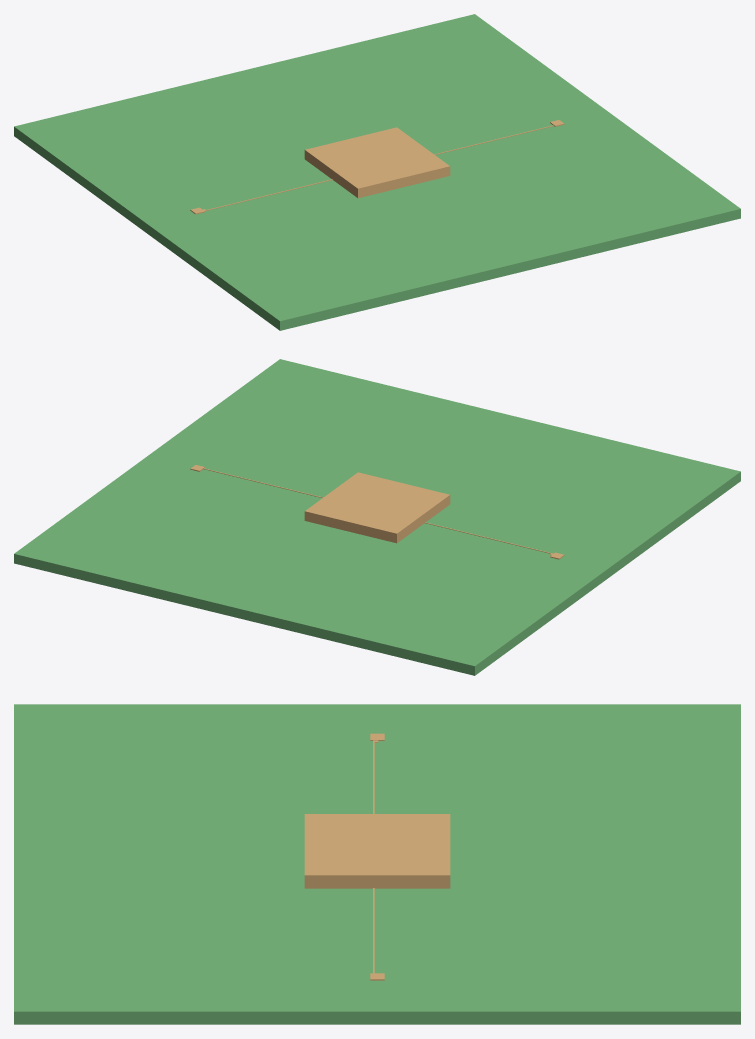
The model's file is board.glb.
The picture shows the model from 3 angles, top to bottom: view 1: azimuth 30°, elevation 25°; view 2: azimuth 150°, elevation 25°; view 3: azimuth 270°, elevation 25°; orthographic projection. The views are drawn at different scales.
Visible parts, largest first — view 1: Substrate_Layer_0_Z0, Block; view 2: Substrate_Layer_0_Z0, Block; view 3: Substrate_Layer_0_Z0, Block.
Part boxes in pixels (bbox=[...]): Substrate_Layer_0_Z0: bbox=[14, 14, 740, 330]; Block: bbox=[304, 127, 450, 198]; Substrate_Layer_0_Z0: bbox=[14, 359, 740, 675]; Block: bbox=[304, 472, 450, 543]; Substrate_Layer_0_Z0: bbox=[14, 704, 740, 1024]; Block: bbox=[304, 814, 450, 888].
Size of the model in its own units: 0.05 by 0.002 by 0.05.
